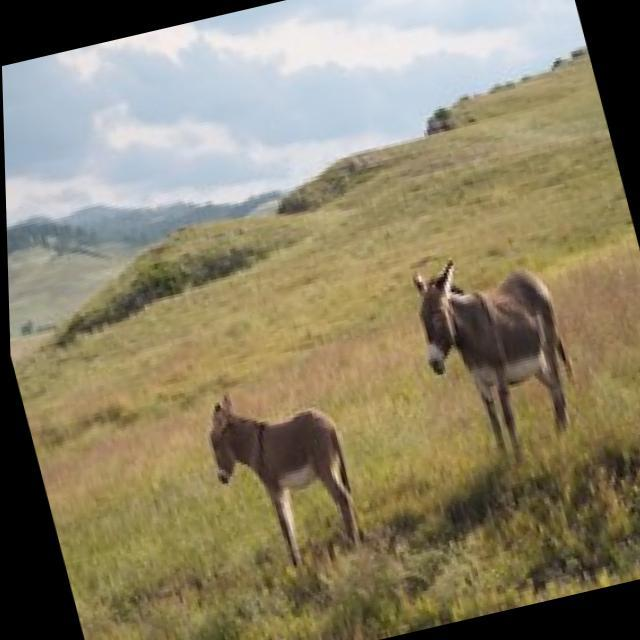Donkey: (383, 212, 611, 498), (186, 373, 387, 600)
